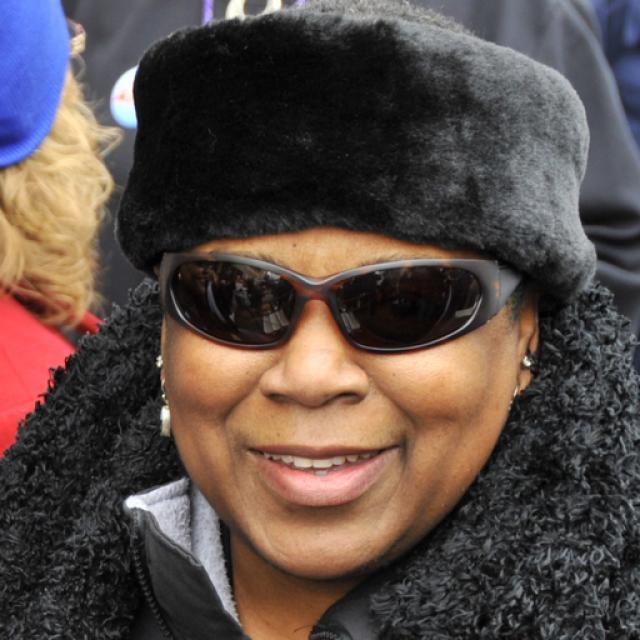happy: (163, 188, 522, 582)
